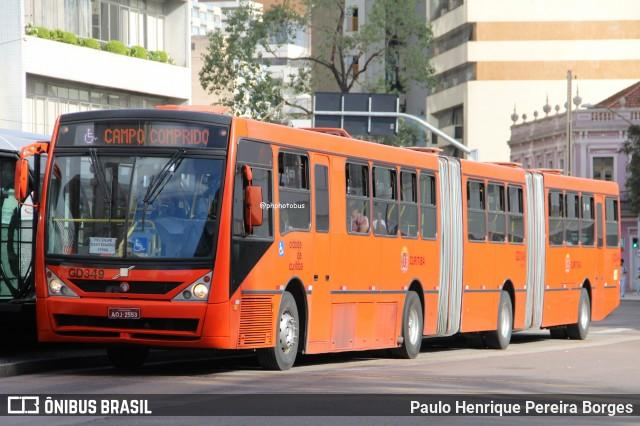CAMPO COMPRIDO: (101, 126, 212, 149)
